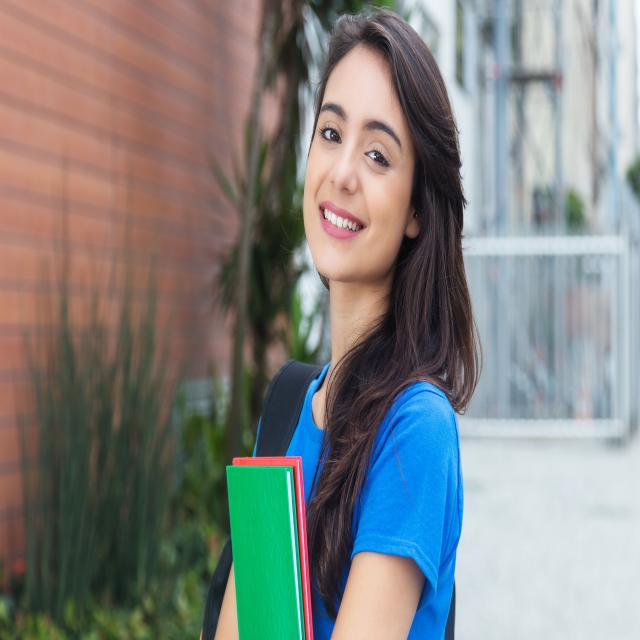human: (214, 11, 487, 640)
